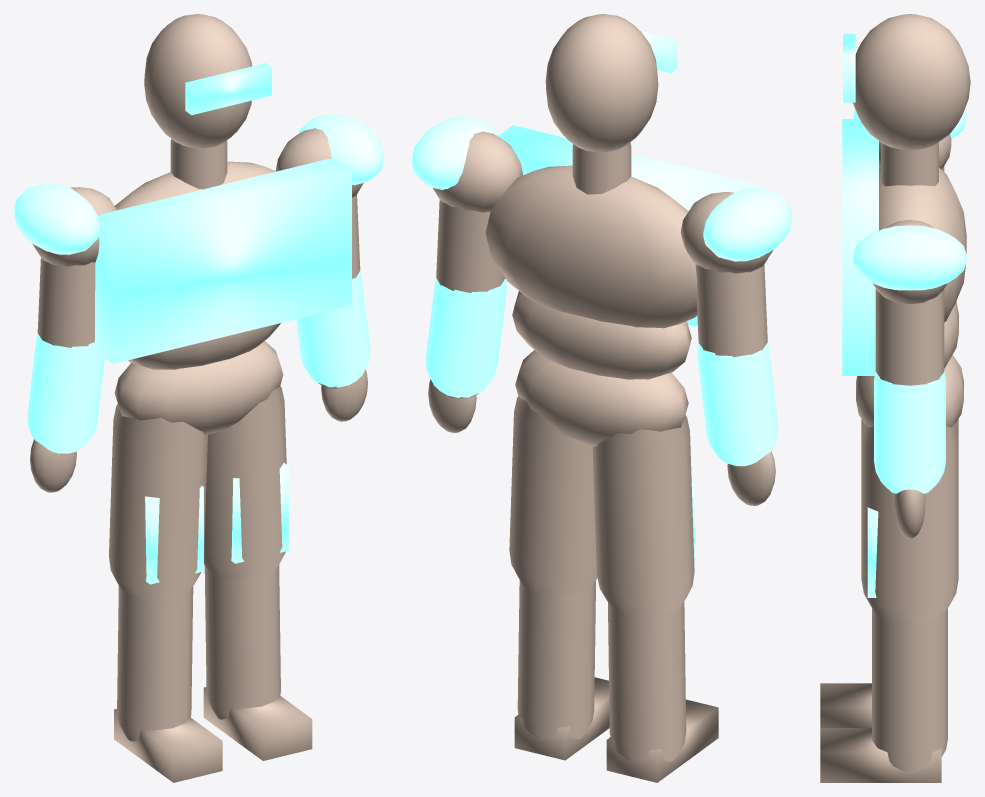
The model's file is cyborg.glb.
The picture shows the model from 3 angles, left to right: view 1: azimuth 30°, elevation 25°; view 2: azimuth 150°, elevation 25°; view 3: azimuth 270°, elevation 25°; orthographic projection. The views are drawn at different scales.
Parts seen in each view (by area): view 1: Avatar; view 2: Avatar; view 3: Avatar.
Boxes of the visible parts, left/top/right/bottom form: Avatar: left=14, top=14, right=383, bottom=782; Avatar: left=412, top=14, right=791, bottom=782; Avatar: left=820, top=14, right=970, bottom=782.
Bounding box in the file's own units: 0.7825 × 1.53 × 0.285.
